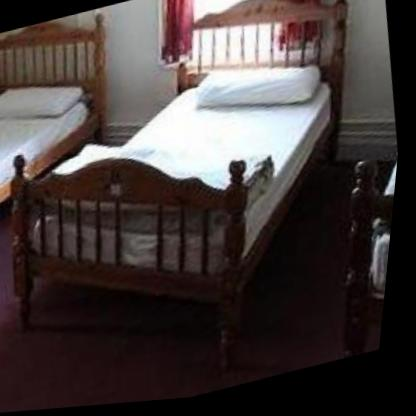Bed: (0, 0, 414, 416), (0, 6, 144, 261)
